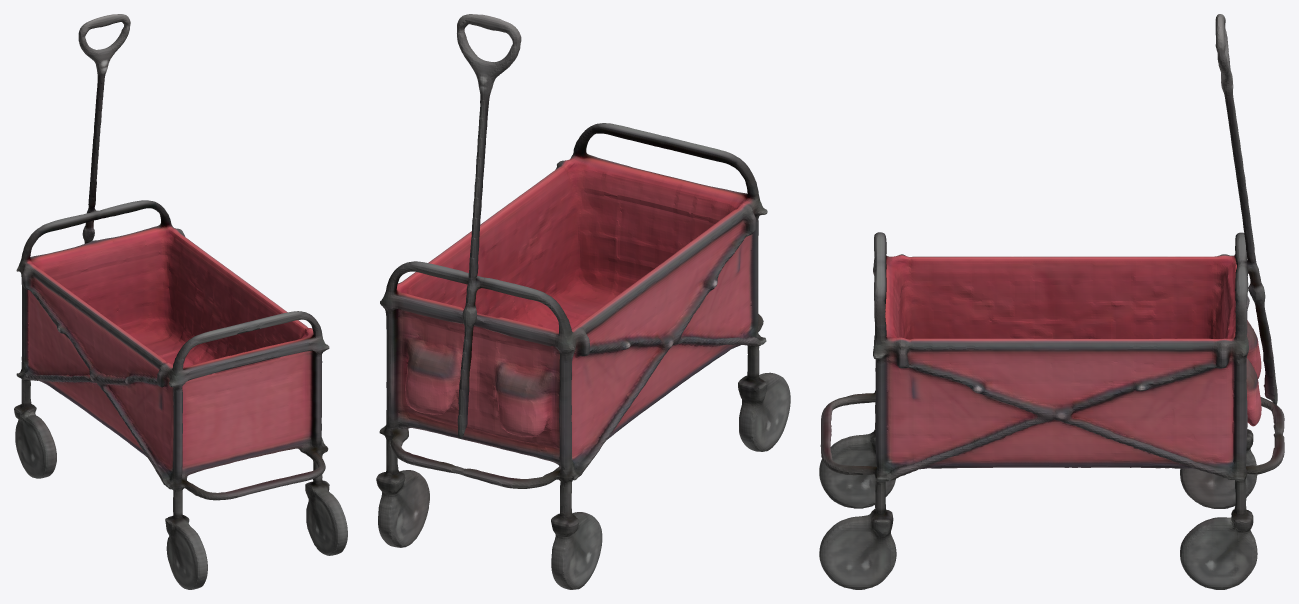
File: amesh_901.glb
3 views of the same model, side by side, from view 1: azimuth 30°, elevation 25°; view 2: azimuth 150°, elevation 25°; view 3: azimuth 270°, elevation 25° (orthographic). The views are drawn at different scales.
Visible parts, largest first — view 1: world; view 2: world; view 3: world.
Boxes of the visible parts, box(x1,y1,x2,y2) form: world: box(14, 14, 347, 589); world: box(376, 14, 790, 589); world: box(819, 14, 1284, 589).
Size of the model in its own units: 0.6944 by 1.8 by 1.45.
